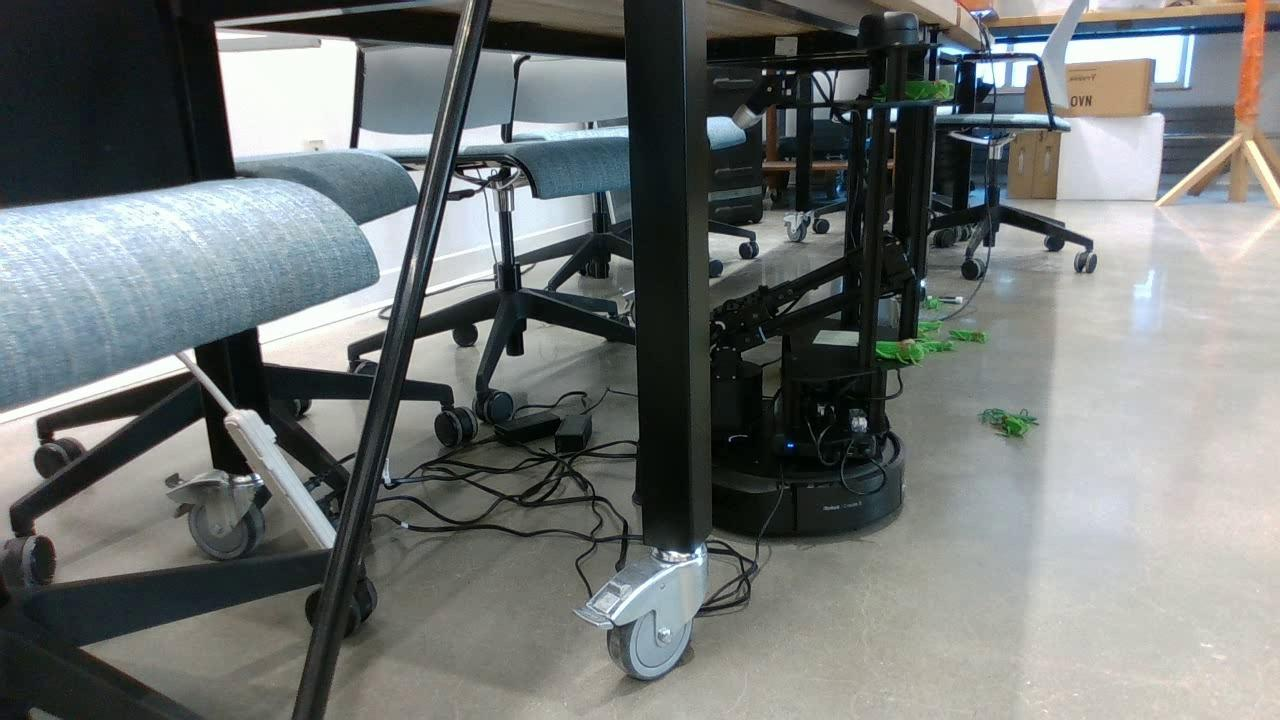grasshopper: (869, 78, 954, 103), (870, 334, 931, 368), (982, 402, 1036, 438), (949, 323, 991, 345), (917, 336, 953, 358), (911, 319, 943, 334), (921, 298, 940, 310)
